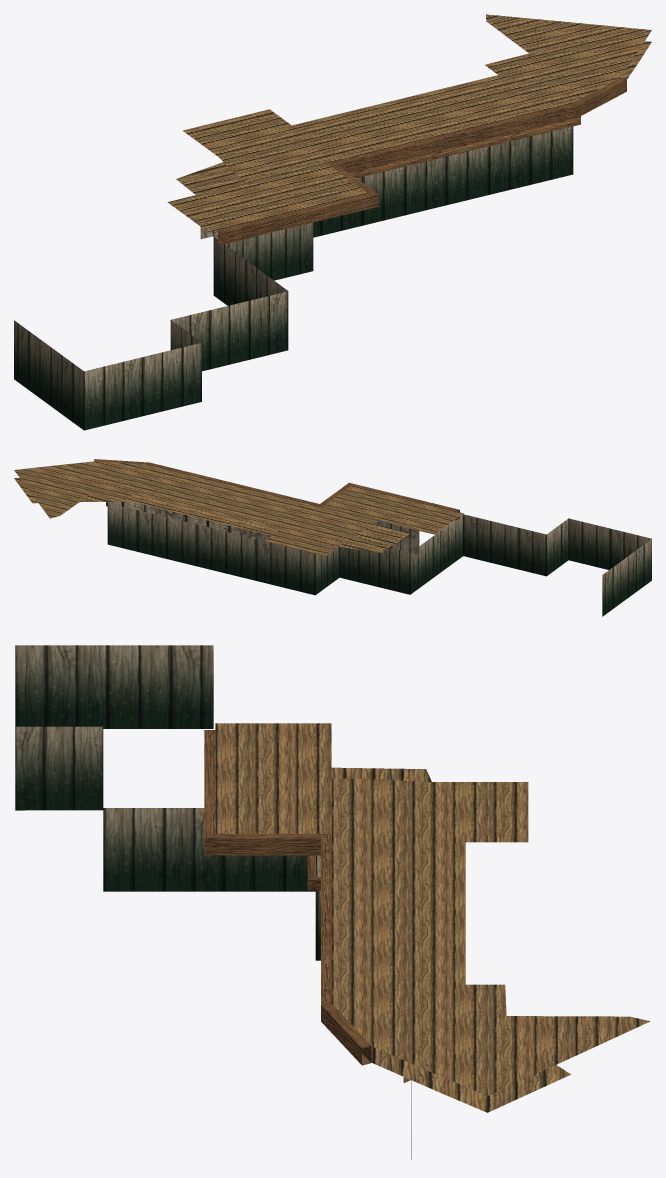
The model's file is LAKETOWN_EXTERIOR_PS_LT_PIERPARTS885756__GX.fbx.
The picture shows the model from 3 angles, top to bottom: view 1: azimuth 30°, elevation 25°; view 2: azimuth 150°, elevation 25°; view 3: azimuth 270°, elevation 25°; orthographic projection. The views are drawn at different scales.
Visible parts, largest first — view 1: LAKETOWN_EXTERIOR_PS_LT_PIERPARTS885756__GX; view 2: LAKETOWN_EXTERIOR_PS_LT_PIERPARTS885756__GX; view 3: LAKETOWN_EXTERIOR_PS_LT_PIERPARTS885756__GX.
Boxes of the visible parts, x1,y1,x2,y2 form: LAKETOWN_EXTERIOR_PS_LT_PIERPARTS885756__GX: [14, 14, 651, 430]; LAKETOWN_EXTERIOR_PS_LT_PIERPARTS885756__GX: [14, 459, 651, 616]; LAKETOWN_EXTERIOR_PS_LT_PIERPARTS885756__GX: [15, 645, 649, 1159].
Bounding box in the file's own units: 315210 × 40646 × 166820.
Materials: 5 (5 with a texture image).
